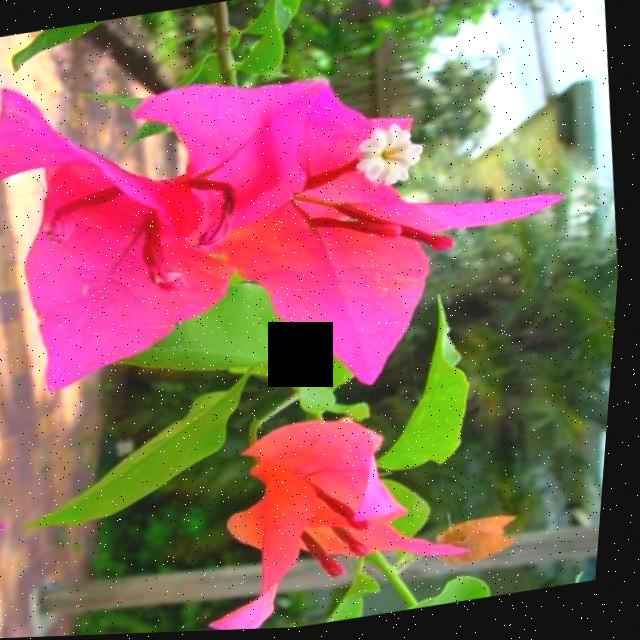bougainvillea: (129, 0, 621, 427), (0, 0, 290, 426), (172, 369, 539, 634)
